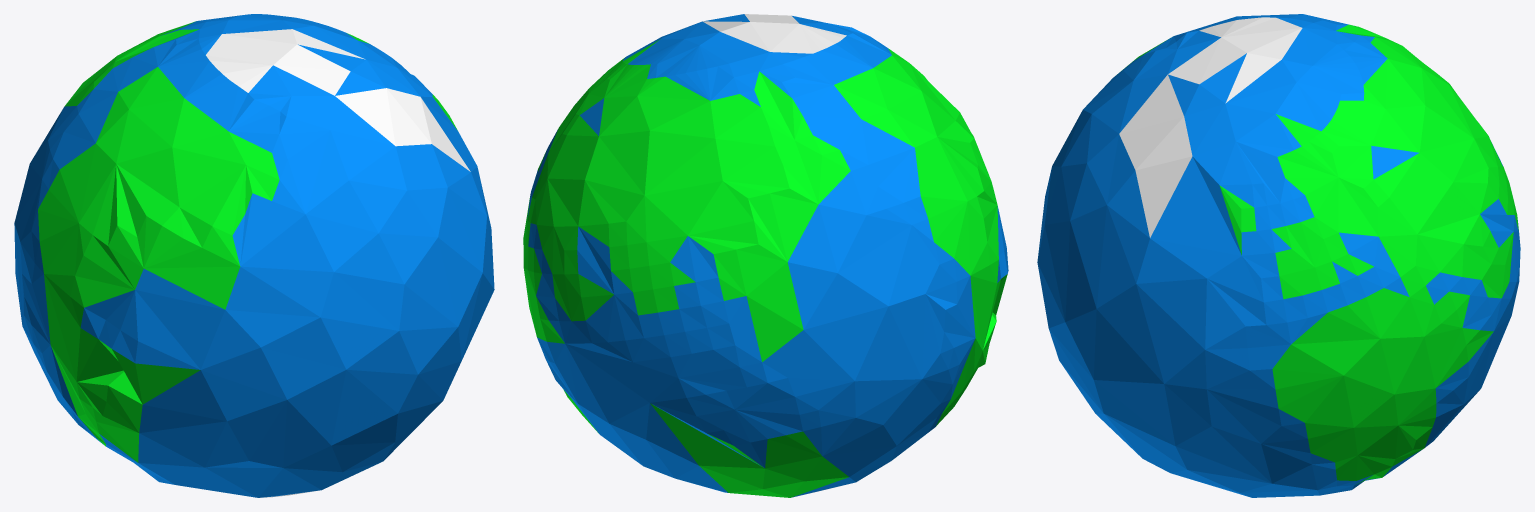
The model's file is Earth.obj.
The picture shows the model from 3 angles, left to right: view 1: azimuth 30°, elevation 25°; view 2: azimuth 150°, elevation 25°; view 3: azimuth 270°, elevation 25°; orthographic projection.
Visible parts, largest first — view 1: Sphere002; view 2: Sphere002; view 3: Sphere002.
Boxes of the visible parts, x1,y1,x2,y2 form: Sphere002: [14, 14, 494, 497]; Sphere002: [523, 14, 1008, 497]; Sphere002: [1037, 14, 1520, 497].
Bounding box in the file's own units: 228098 × 227532 × 228084.
